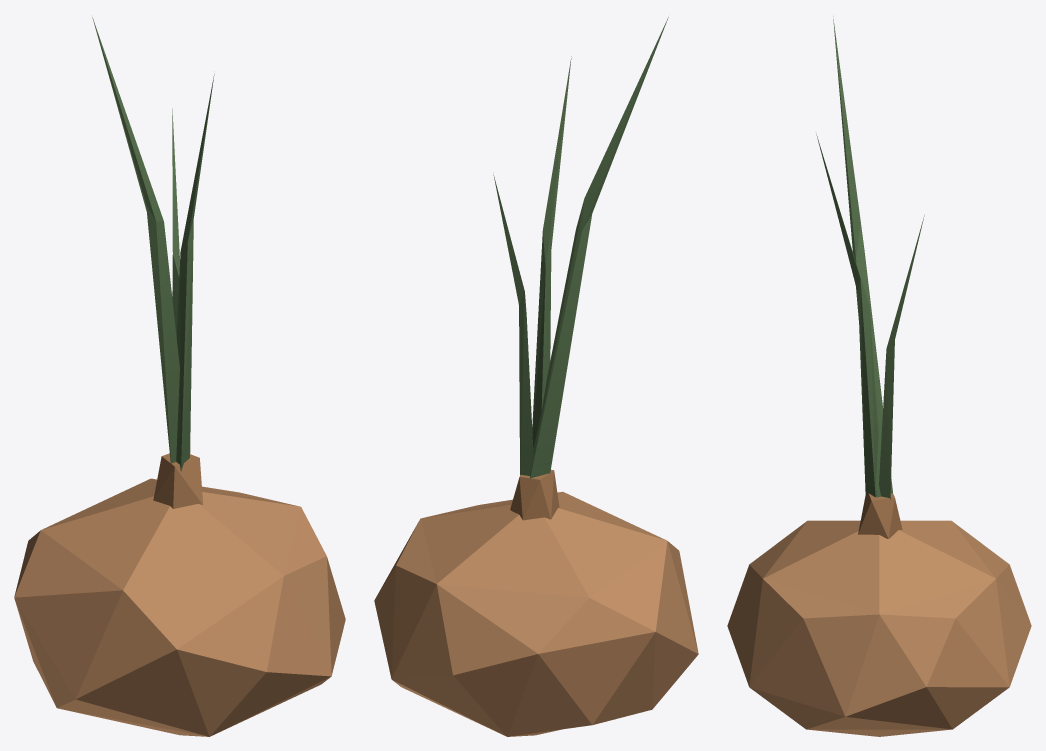
The model's file is Onion_01.fbx.
3 renders of one model, left to right at view 1: azimuth 30°, elevation 25°; view 2: azimuth 150°, elevation 25°; view 3: azimuth 270°, elevation 25°, orthographic. The views are drawn at different scales.
Parts seen in each view (by area): view 1: Onion_01; view 2: Onion_01; view 3: Onion_01.
Boxes of the visible parts, bbox=[...] form: Onion_01: bbox=[14, 17, 345, 736]; Onion_01: bbox=[374, 17, 698, 736]; Onion_01: bbox=[727, 16, 1031, 736].
Size of the model in its own units: 13.12 by 32.93 by 13.48.
